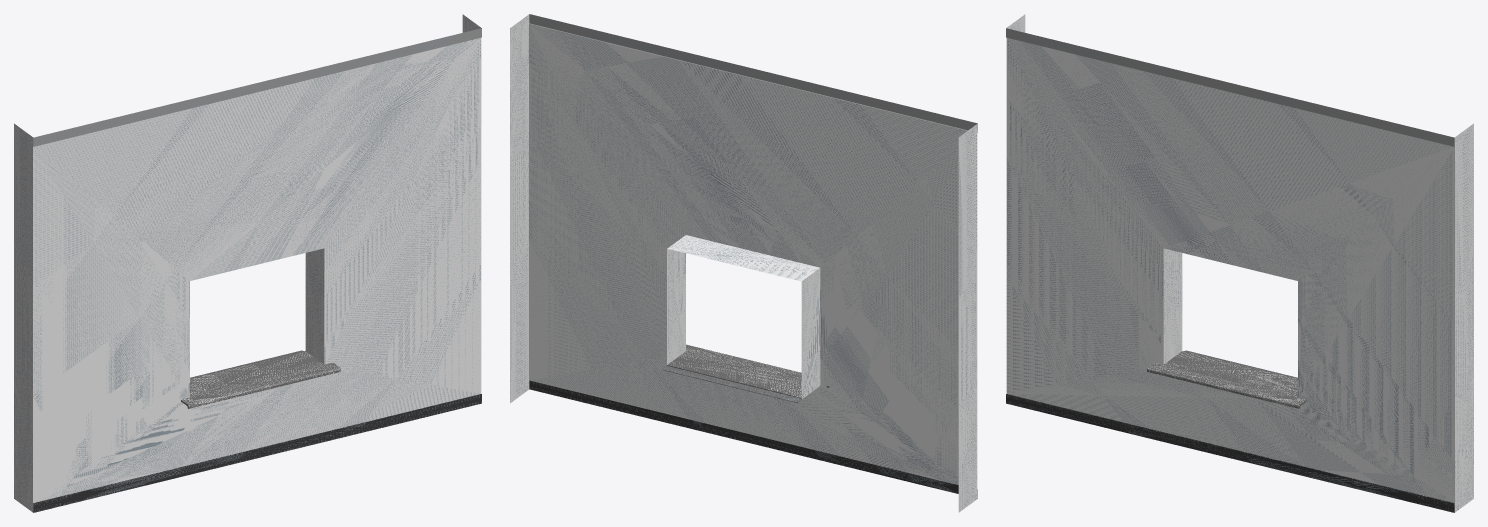
The model's file is WindowBlock_os_plinth_[500x400]_150x124x[080].dae.
3 renders of one model, left to right at view 1: azimuth 30°, elevation 25°; view 2: azimuth 150°, elevation 25°; view 3: azimuth 330°, elevation 25°, orthographic.
Visible parts, largest first — view 1: group_1 (×4), group_2; view 2: group_1 (×4), group_2 (×2); view 3: group_1 (×4), group_2.
Part boxes in pixels (left/top/right/bottom): group_1 (×4): left=14, top=14, right=481, bottom=512; group_2: left=181, top=351, right=340, bottom=408; group_1 (×4): left=510, top=14, right=977, bottom=512; group_2 (×2): left=663, top=344, right=829, bottom=402; group_1 (×4): left=1006, top=14, right=1473, bottom=512; group_2: left=1147, top=351, right=1306, bottom=408.
Bounding box in the file's own units: 197 × 23.03 × 157.
